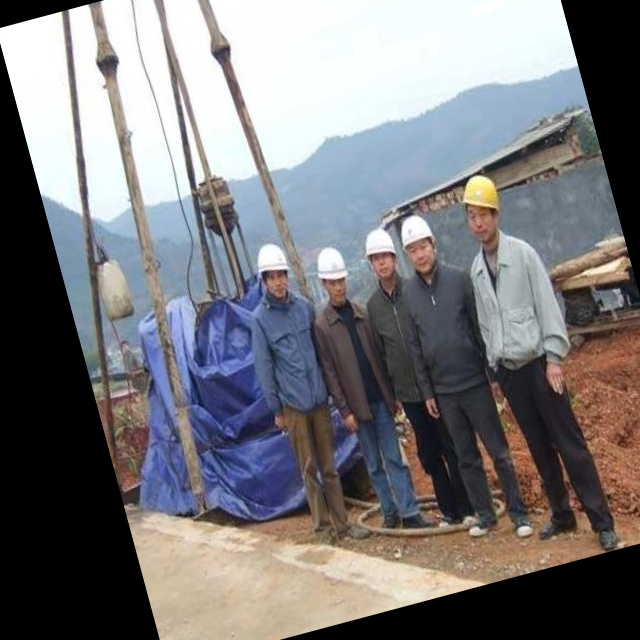Con_Casco: (395, 212, 444, 277), (308, 241, 355, 304), (359, 224, 404, 285)
